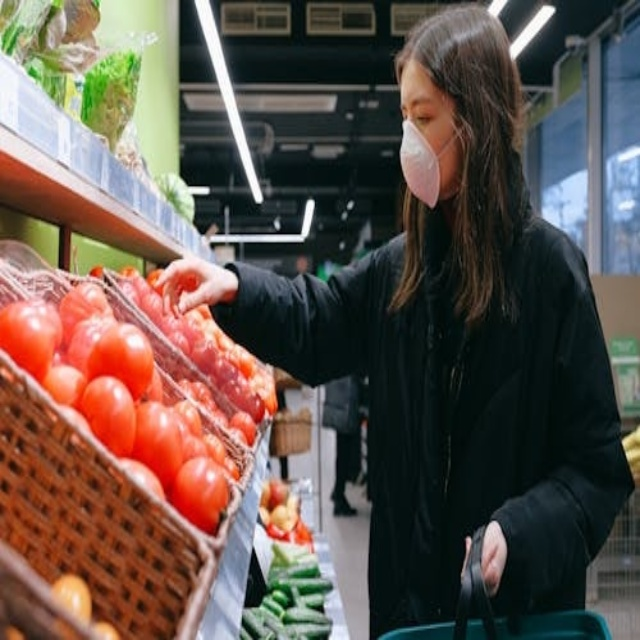Mascara: (399, 116, 454, 209)
Sin_gafas: (396, 88, 443, 127)
Sin_guantes: (155, 253, 239, 315), (460, 517, 508, 599)
